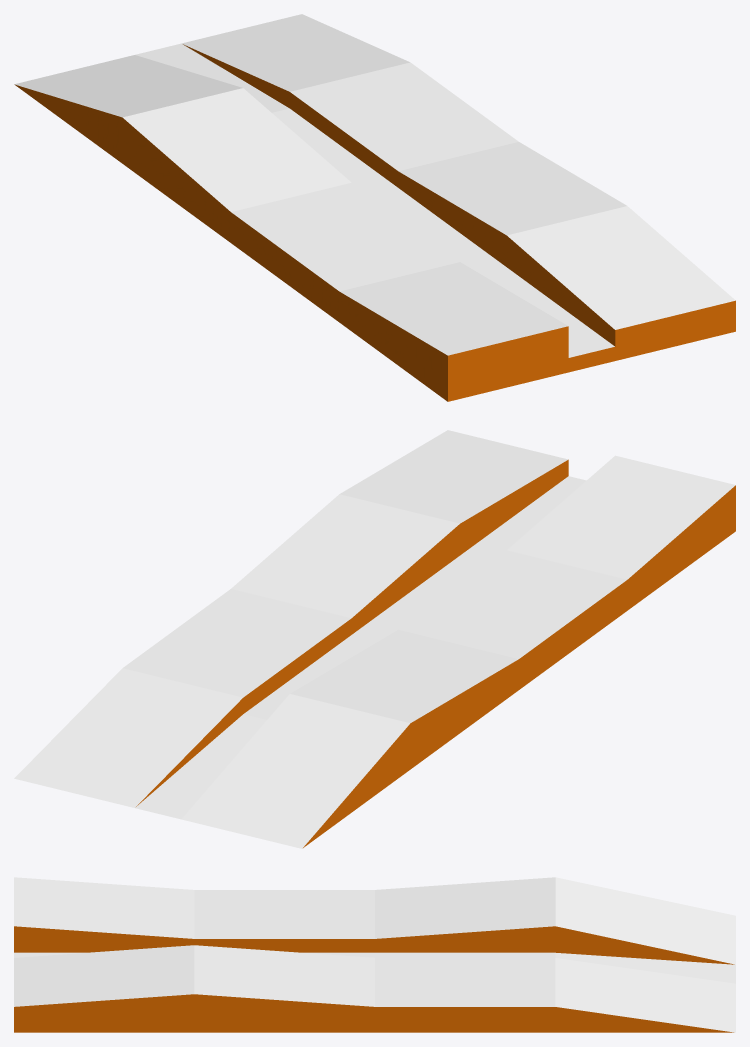
Rendered from WiggleBump.fbx.
3 views of the same model, one above another, from view 1: azimuth 30°, elevation 25°; view 2: azimuth 150°, elevation 25°; view 3: azimuth 270°, elevation 25° (orthographic). The views are drawn at different scales.
Parts seen in each view (by area): view 1: WiggleBump, WiggleBumpRamp; view 2: WiggleBump, WiggleBumpRamp; view 3: WiggleBump, WiggleBumpRamp.
Part boxes in pixels (box(x1,y1,x2,y2)): WiggleBump: box(122, 62, 735, 401); WiggleBumpRamp: box(14, 14, 409, 163); WiggleBump: box(123, 430, 735, 768); WiggleBumpRamp: box(14, 668, 410, 848); WiggleBump: box(14, 877, 555, 1032); WiggleBumpRamp: box(555, 877, 735, 1032).
Bounding box in the file's own units: 119 × 18.22 × 310.
